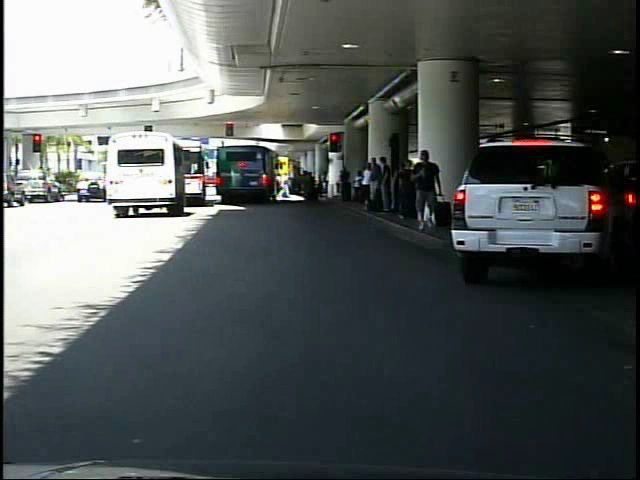person: (411, 150, 442, 235)
